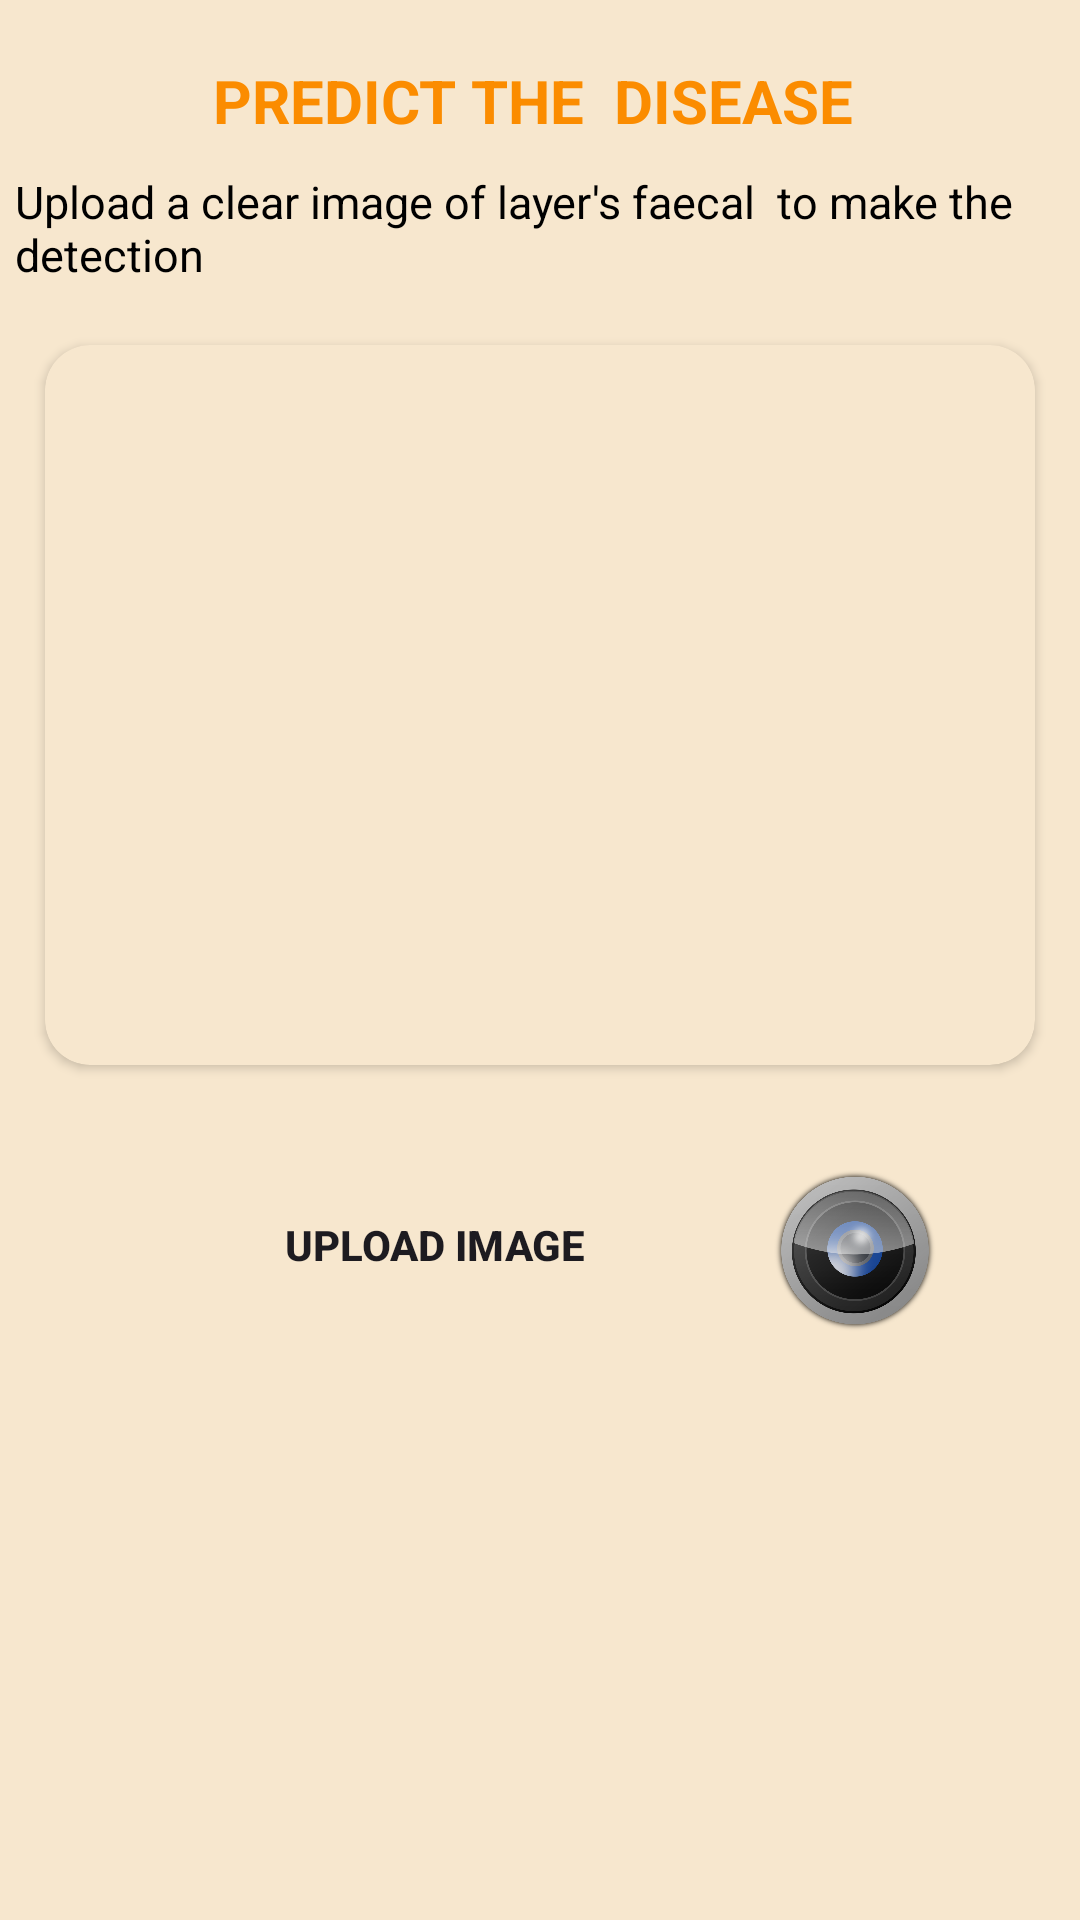

Icon bounding boxes for this 1080x1920 phone screenshot, format (x1=x1, y1=y1, x2=x2, y2=y2):
cameraicon: (x1=778, y1=1173, x2=932, y2=1328)
